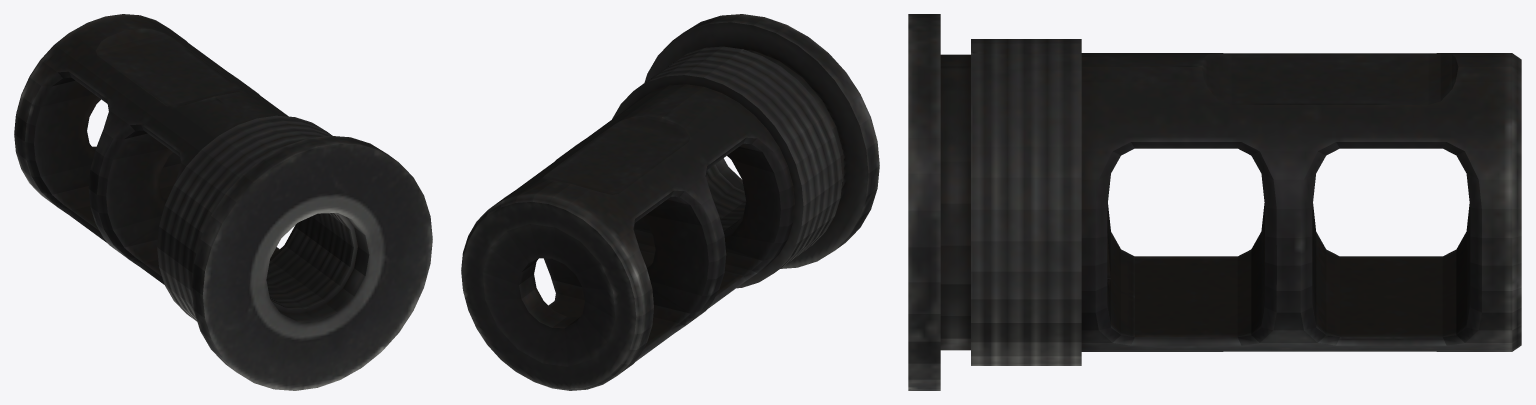
3 renders of one model, left to right at view 1: azimuth 30°, elevation 25°; view 2: azimuth 150°, elevation 25°; view 3: azimuth 270°, elevation 25°, orthographic. The views are drawn at different scales.
Visible parts, largest first — view 1: TW_612e0cfc8004cc50514c2d9e_PZ_Import; view 2: TW_612e0cfc8004cc50514c2d9e_PZ_Import; view 3: TW_612e0cfc8004cc50514c2d9e_PZ_Import.
Part boxes in pixels (left/top/right/bottom): TW_612e0cfc8004cc50514c2d9e_PZ_Import: left=14, top=14, right=432, bottom=390; TW_612e0cfc8004cc50514c2d9e_PZ_Import: left=461, top=14, right=879, bottom=390; TW_612e0cfc8004cc50514c2d9e_PZ_Import: left=908, top=14, right=1521, bottom=390.
Bounding box in the file's own units: 0.018 × 0.0292 × 0.018.
1 material, 1 textured.
